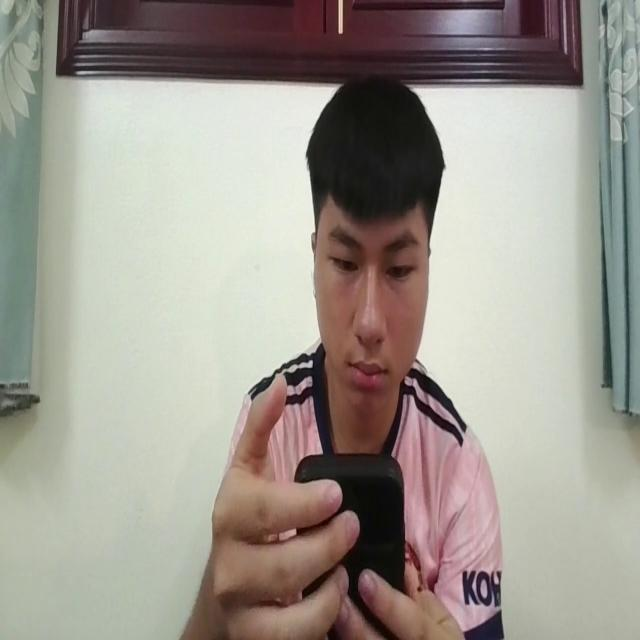phone: (296, 438, 401, 614)
student: (170, 72, 506, 640)
